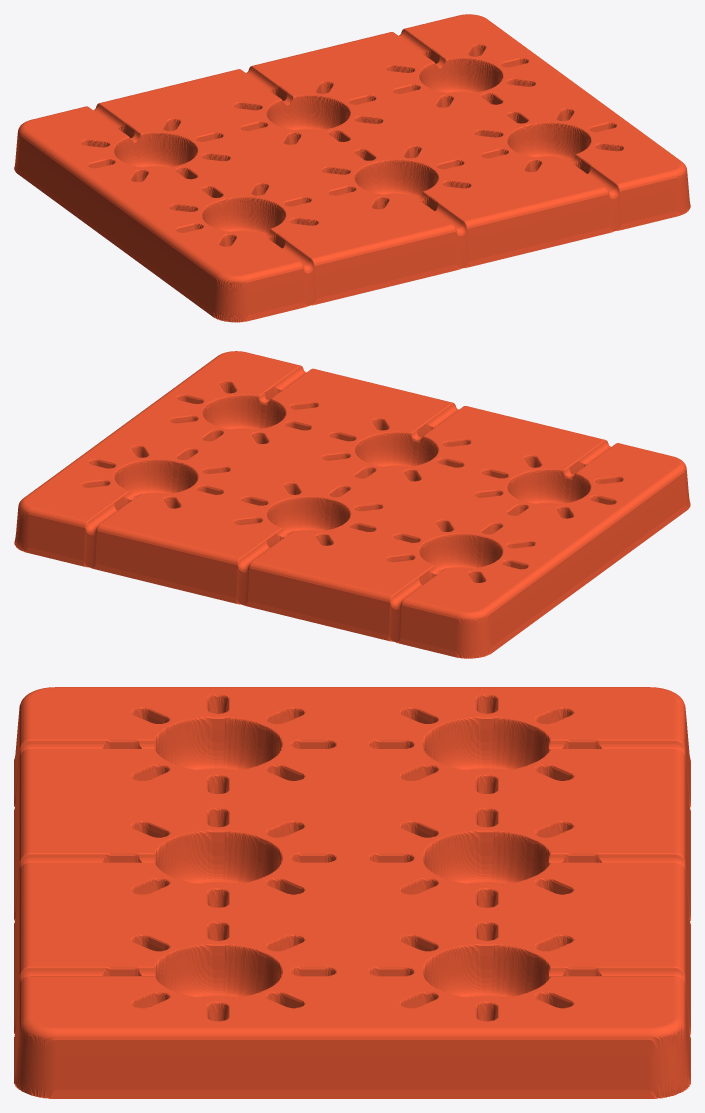
File: mold.glb
3 renders of one model, top to bottom at view 1: azimuth 30°, elevation 25°; view 2: azimuth 150°, elevation 25°; view 3: azimuth 270°, elevation 25°, orthographic. The views are drawn at different scales.
Visible parts, largest first — view 1: geometry_0; view 2: geometry_0; view 3: geometry_0.
Part boxes in pixels (box(x1,y1,x2,y2)): geometry_0: box(14, 14, 690, 322); geometry_0: box(14, 351, 690, 658); geometry_0: box(14, 687, 690, 1098).
Size of the model in its own units: 0.1824 by 0.0155 by 0.1477.
